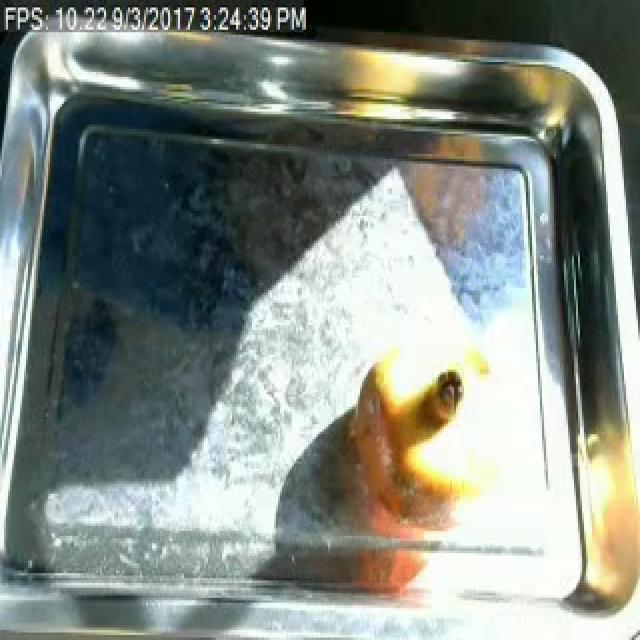fruit: (338, 325, 520, 543)
